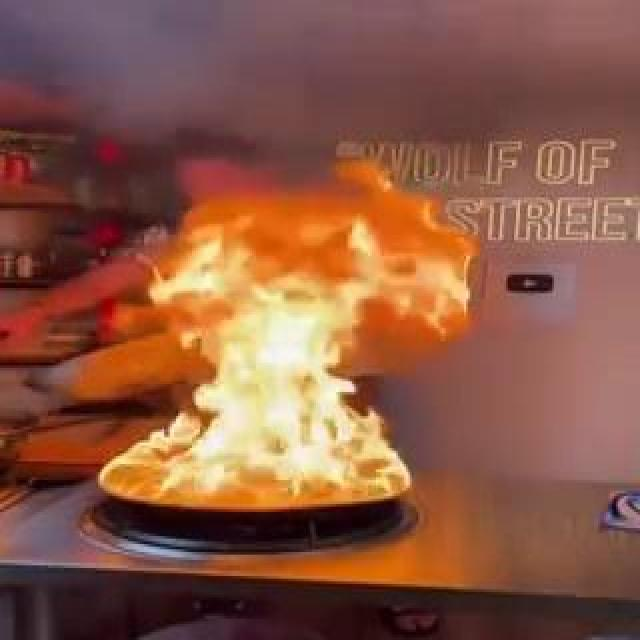Fire: (263, 314, 358, 398)
